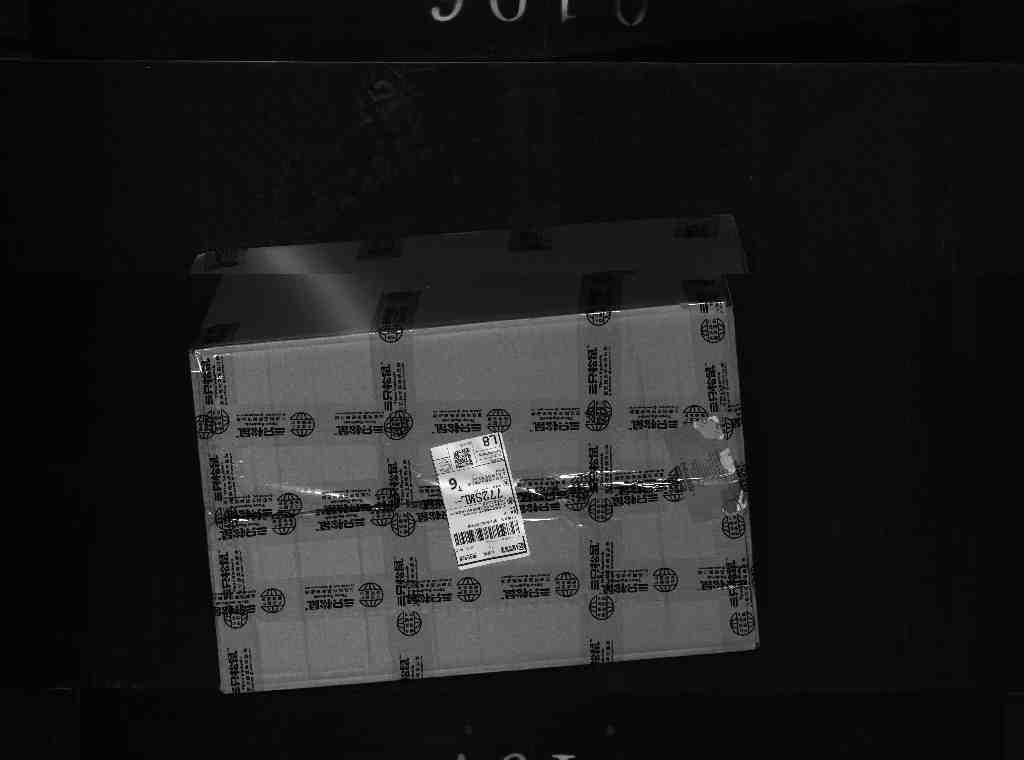box: (163, 210, 790, 711)
